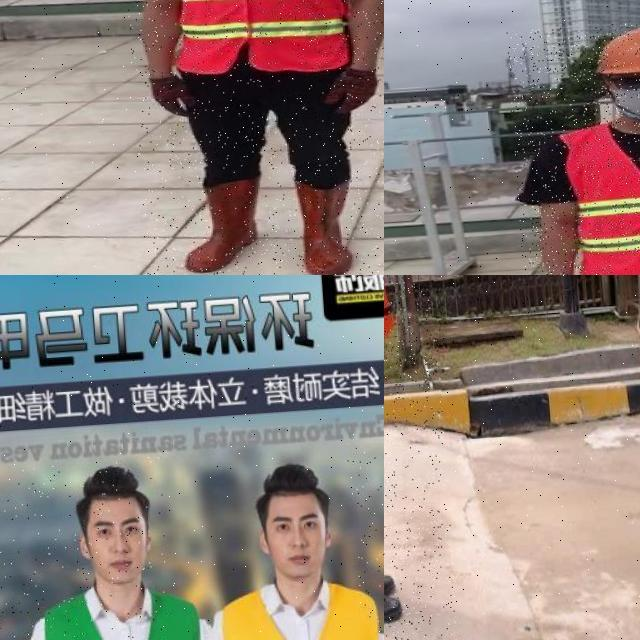boots: (180, 176, 264, 274), (289, 176, 358, 275), (384, 584, 408, 630), (384, 569, 398, 595)
helmet: (587, 21, 640, 80)
vest: (163, 0, 351, 81), (561, 115, 640, 275), (213, 579, 384, 640), (37, 581, 210, 640)
